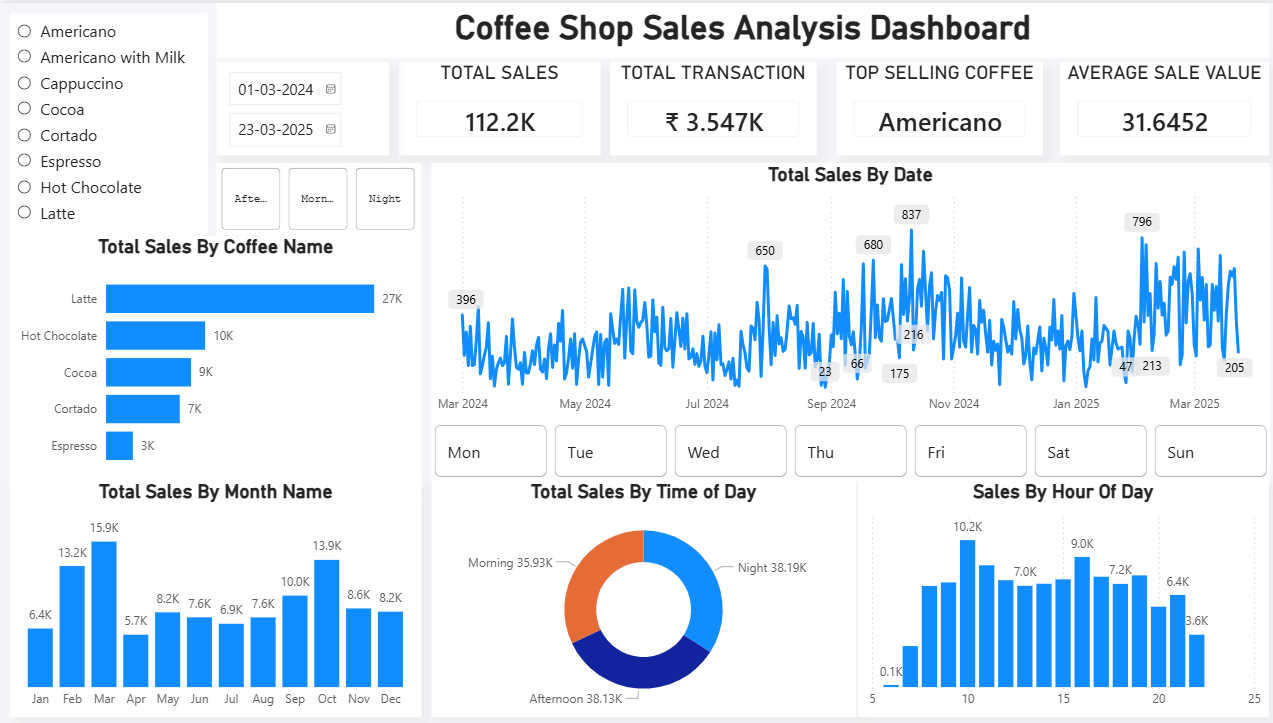

The dashboard page shown, as its layout file describes it:
{"tool":"powerbi","page":{"name":"Page 1","canvas":[1280,720],"ordinal":0},"visuals":[{"type":"cardVisual","title":"TOTAL SALES","fields":{"Data":["Coffe_sales.total sales"]},"box":[400,58.9,201.2,93.3],"z":0},{"type":"cardVisual","title":"TOTAL TRANSACTION","fields":{"Data":["Coffe_sales.total transaction"]},"box":[611.8,59.1,206.1,93.3],"z":1000},{"type":"cardVisual","title":"TOP SELLING COFFEE","fields":{"Data":["Min(Coffe_sales.coffee_name)"]},"box":[837.1,58.7,206.1,93.3],"z":2000},{"type":"cardVisual","title":"AVERAGE SALE VALUE","fields":{"Data":["Coffe_sales.average sale value"]},"box":[1061.6,58.7,208.6,93.3],"z":3000},{"type":"clusteredColumnChart","title":"Total Sales By Month Name","fields":{"Category":["Coffe_sales.Month_name"],"Y":["Coffe_sales.total sales"]},"box":[11,477.3,411,236.8],"z":4000},{"type":"donutChart","title":"Total Sales By Time of Day","fields":{"Category":["Coffe_sales.Time_of_Day"],"Y":["Coffe_sales.total sales"]},"box":[431.9,477.3,424.5,236.8],"z":5000},{"type":"columnChart","title":"Sales By Hour Of Day","fields":{"Category":["Coffe_sales.hour_of_day"],"Y":["Coffe_sales.total sales"]},"box":[858.9,477.3,411,236.8],"z":6000},{"type":"textbox","box":[217.2,0,1052.8,55.2],"z":7000},{"type":"barChart","title":"Total Sales By Coffee Name","fields":{"Category":["Coffe_sales.coffee_name"],"Y":["Coffe_sales.total sales"]},"box":[11,231.9,411,245.4],"z":8000},{"type":"lineChart","title":"Total Sales By Date","fields":{"Category":["Coffe_sales.Date"],"Y":["Coffe_sales.total sales"]},"box":[431.9,159.5,838,258.9],"z":9000},{"type":"slicer","fields":{"Values":["Coffe_sales.Date"]},"box":[217.2,58.9,173,93.3],"z":10000},{"type":"listSlicer","fields":{"Values":["Coffe_sales.coffee_name"]},"box":[11,9.8,197.5,222.1],"z":11000},{"type":"advancedSlicerVisual","fields":{"Values":["Coffe_sales.Weekday"]},"box":[431.9,418.4,838,58.9],"z":12000},{"type":"advancedSlicerVisual","fields":{"Values":["Coffe_sales.Time_of_Day"]},"box":[217.2,159.5,204.9,72.4],"z":13000}]}

Visuals, with their boxes in screenshot pixels (x1, y1, x2, y2), scaled from the page's 1280x720 canvas onto the 1273x723 screenshot:
"TOTAL SALES" cardVisual: bbox=(398, 59, 598, 153)
"TOTAL TRANSACTION" cardVisual: bbox=(608, 59, 813, 153)
"TOP SELLING COFFEE" cardVisual: bbox=(833, 59, 1037, 153)
"AVERAGE SALE VALUE" cardVisual: bbox=(1056, 59, 1263, 153)
"Total Sales By Month Name" clusteredColumnChart: bbox=(11, 479, 420, 717)
"Total Sales By Time of Day" donutChart: bbox=(430, 479, 852, 717)
"Sales By Hour Of Day" columnChart: bbox=(854, 479, 1263, 717)
textbox: bbox=(216, 0, 1263, 55)
"Total Sales By Coffee Name" barChart: bbox=(11, 233, 420, 479)
"Total Sales By Date" lineChart: bbox=(430, 160, 1263, 420)
slicer - Coffe_sales.Date: bbox=(216, 59, 388, 153)
listSlicer - Coffe_sales.coffee_name: bbox=(11, 10, 207, 233)
advancedSlicerVisual - Coffe_sales.Weekday: bbox=(430, 420, 1263, 479)
advancedSlicerVisual - Coffe_sales.Time_of_Day: bbox=(216, 160, 420, 233)
